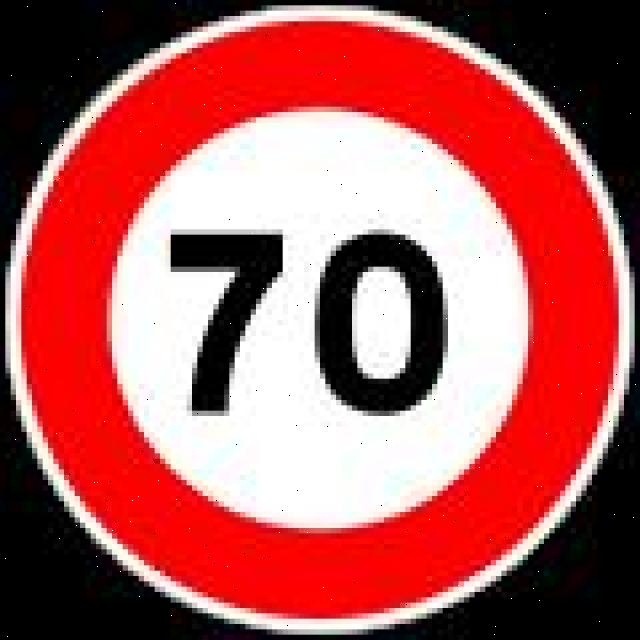speed limit 70: (4, 0, 640, 640)
